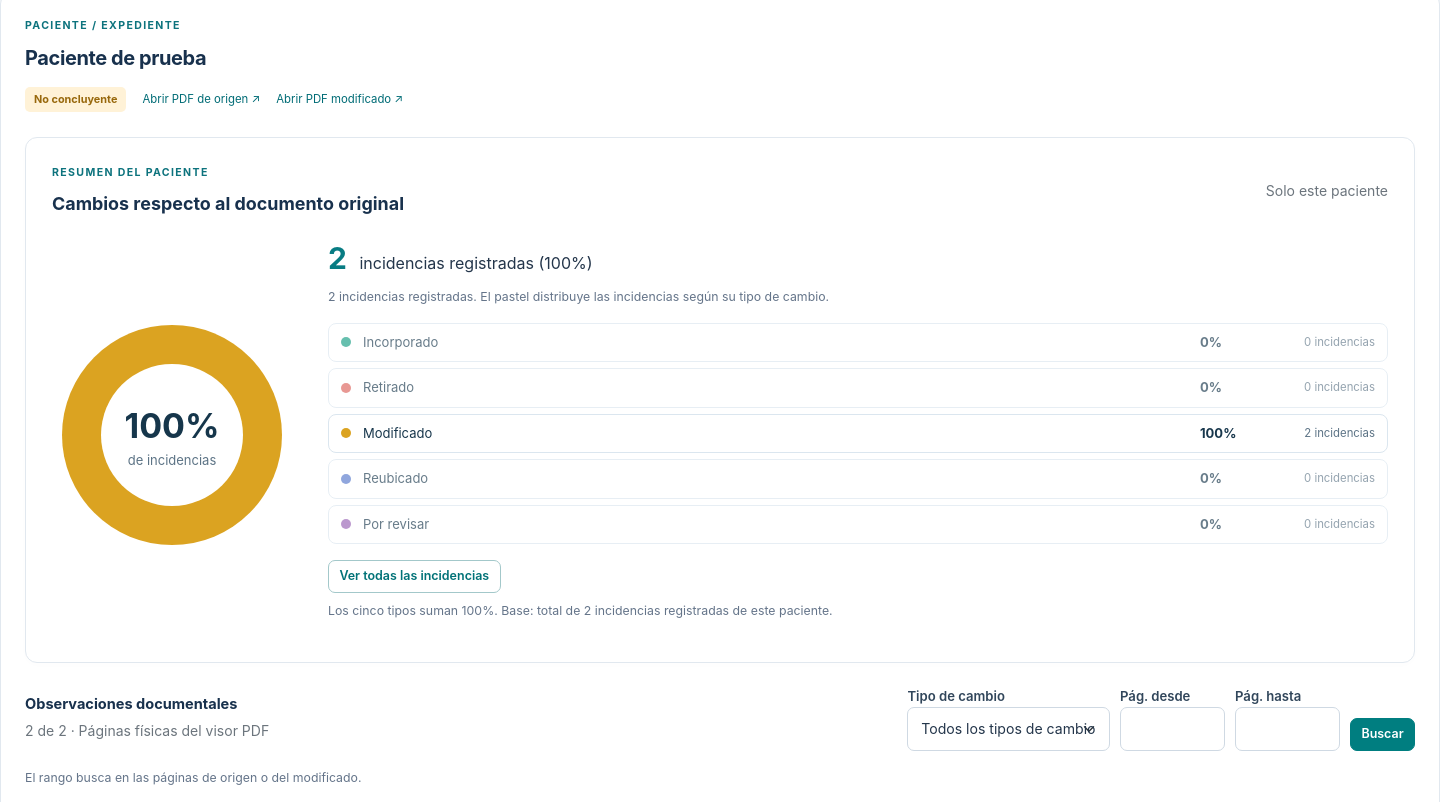
Scenario: shows the table directly, applies page range only on Buscar and rejects an inverted range
The image size is (1440, 802).
In the number field labelled "Pág. desde": (1172, 729) [1120,707,1225,751], type "29"
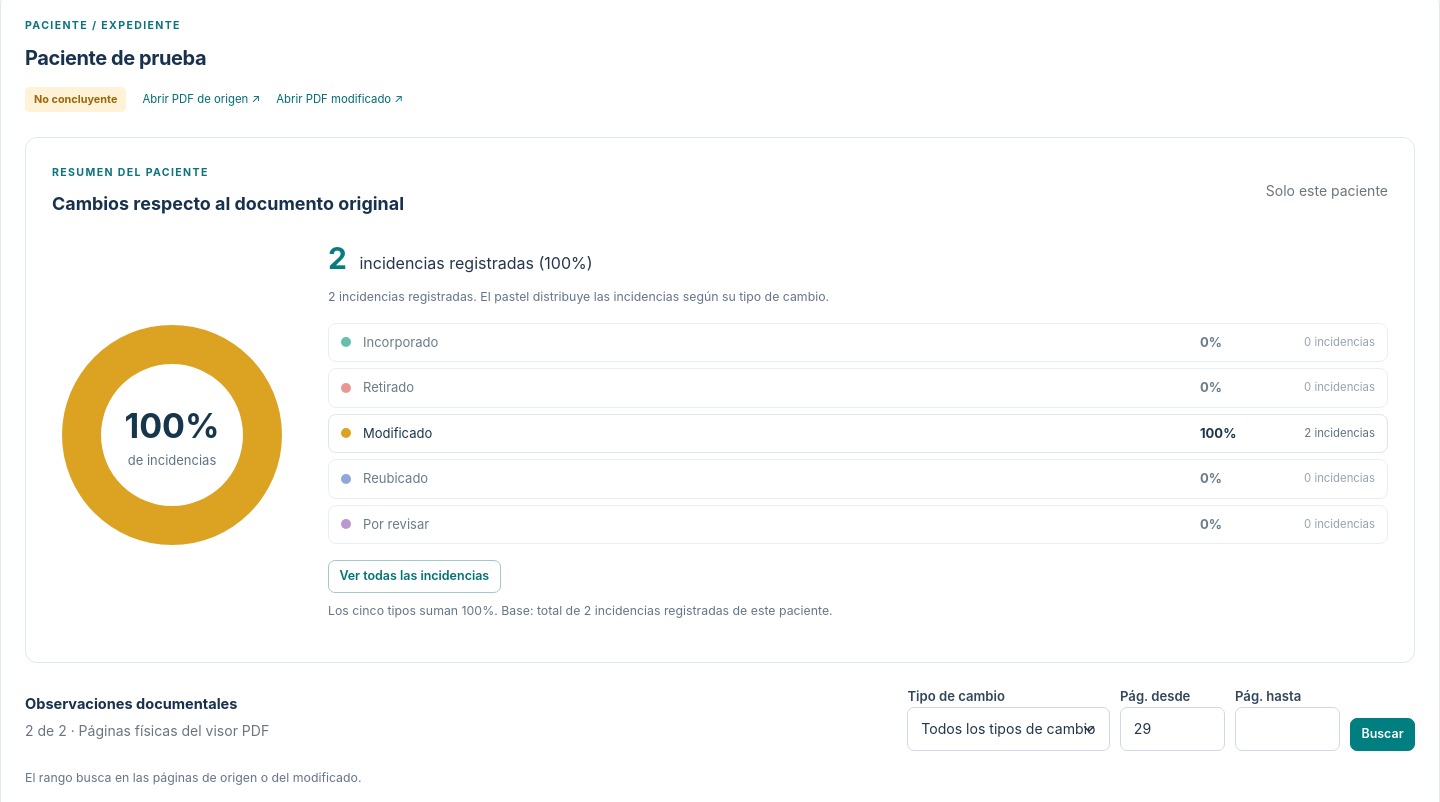
In the number field labelled "Pág. hasta": (1288, 729) [1235,707,1340,751], type "29"
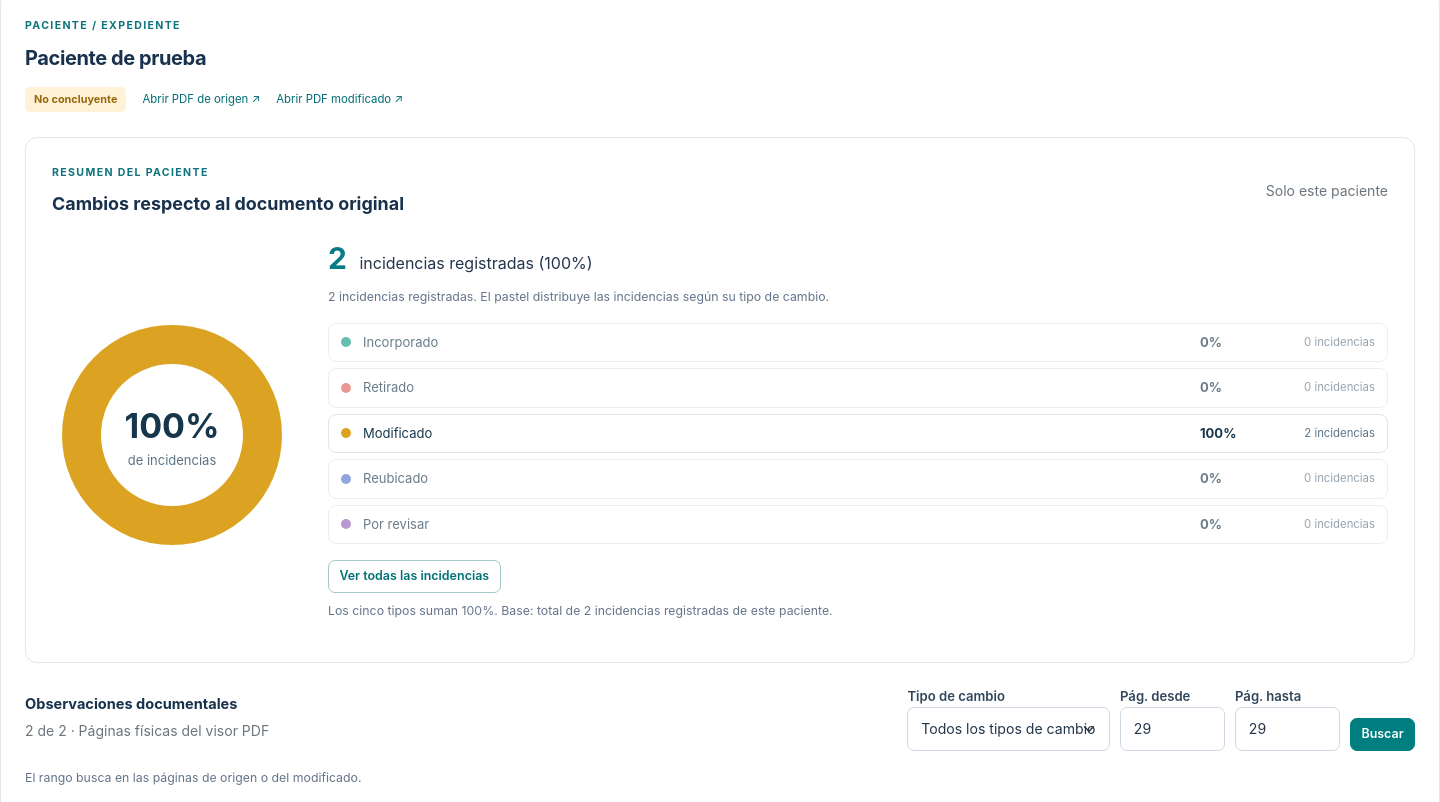
Click the button "Buscar": (1382, 734) [1350,718,1415,751]
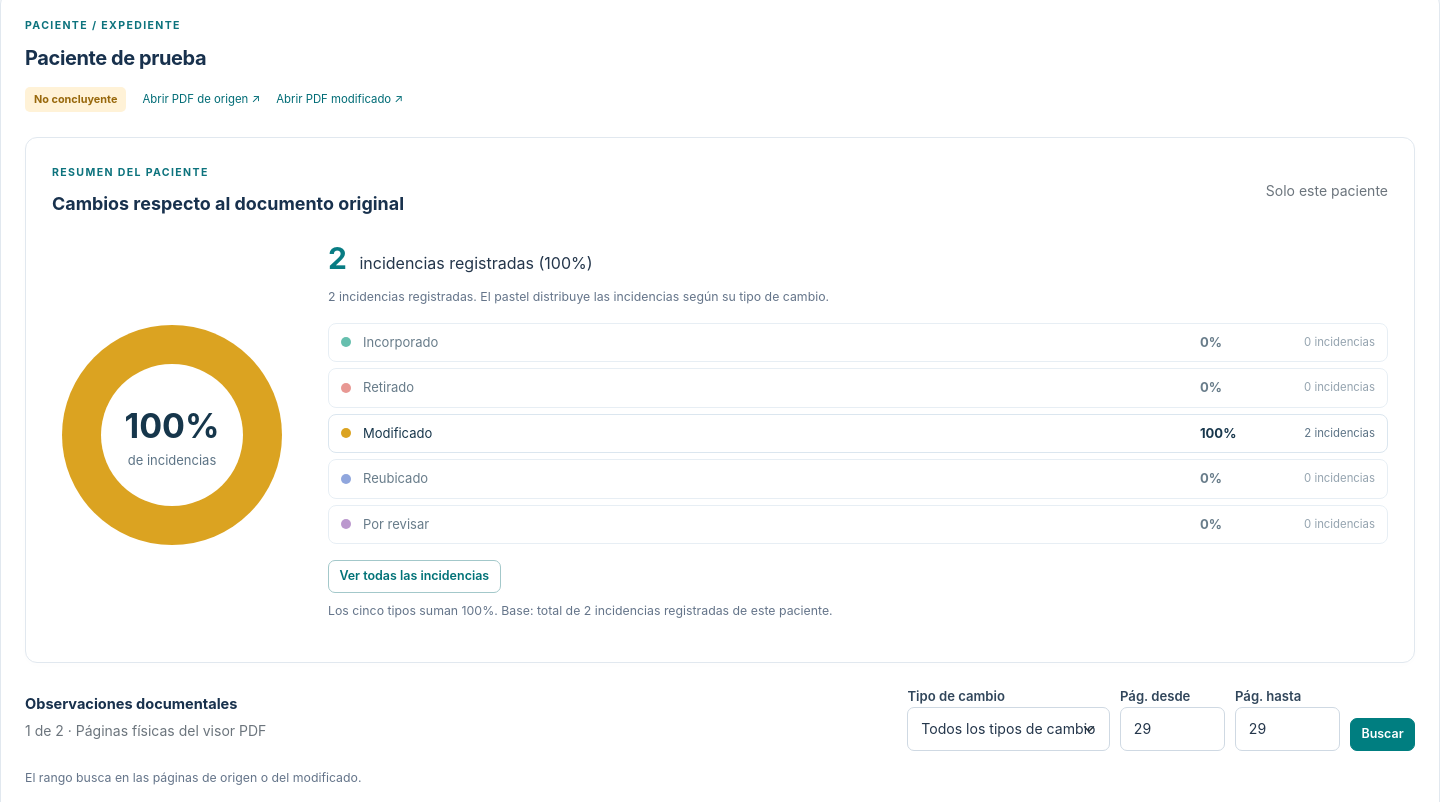
Replace the text in the number field labelled "Pág. desde" with "30": (1172, 729) [1120,707,1225,751]
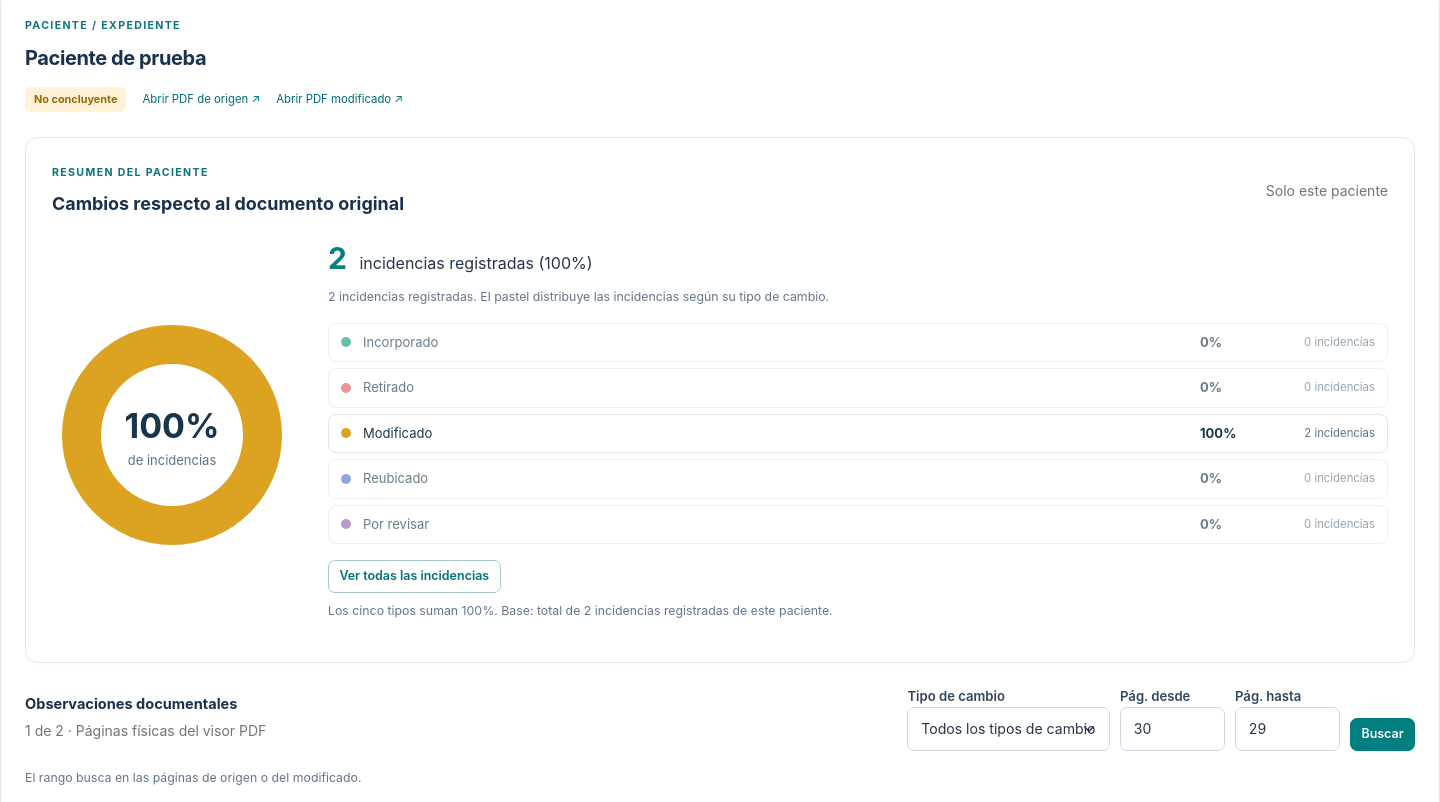
Click the button "Buscar": (1382, 734) [1350,718,1415,751]
(page scrolled)
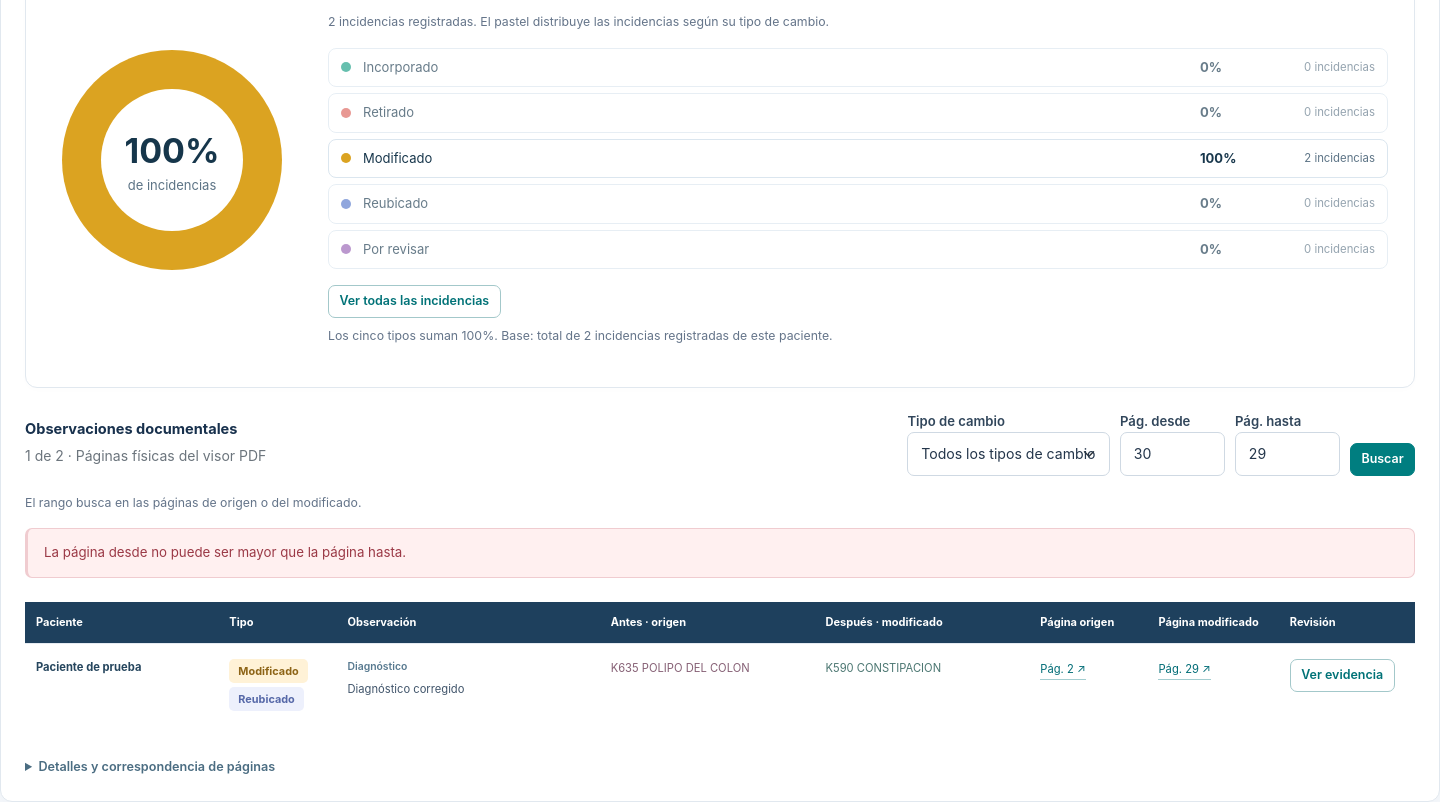
Now the text "La página desde no puede ser mayor que la página hasta." is shown, box [25,528,1415,578]
